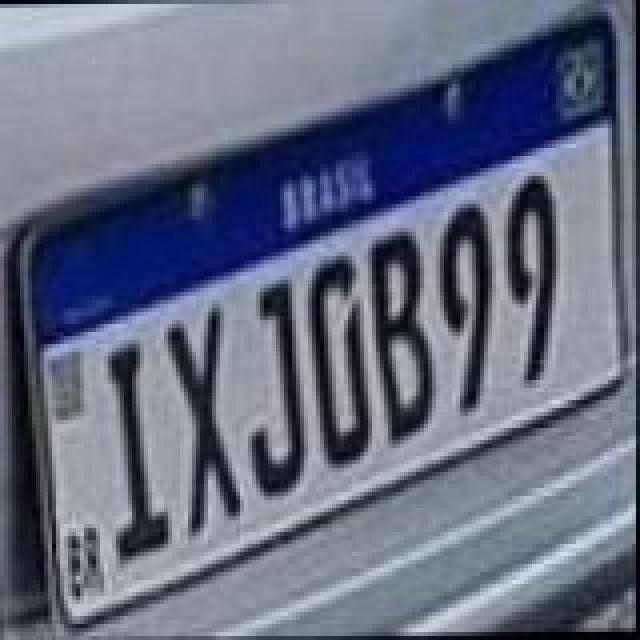9: (504, 170, 564, 390), (440, 206, 500, 418)
B: (368, 230, 436, 450)
D: (308, 256, 376, 468)
I: (102, 344, 170, 568)
J: (246, 282, 314, 498)
X: (168, 308, 248, 540)
